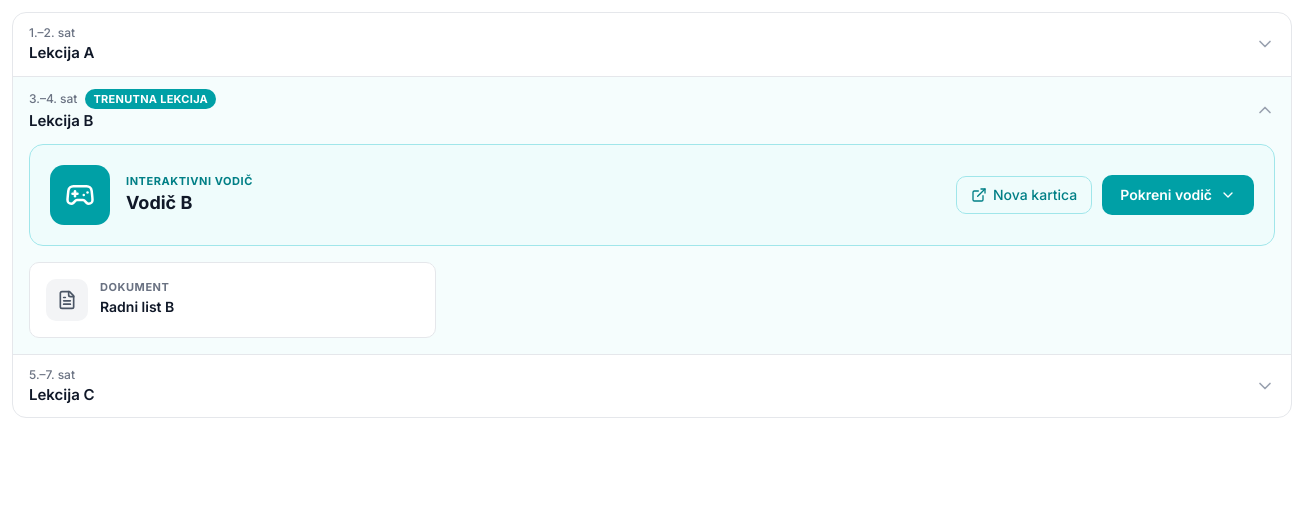
Test case: LessonAccordion — dated module › opens any other lesson on click, and closes it again
Click the button "5.–7. sat Lekcija C".
click(52, 374)  # box [13, 355, 1291, 417]
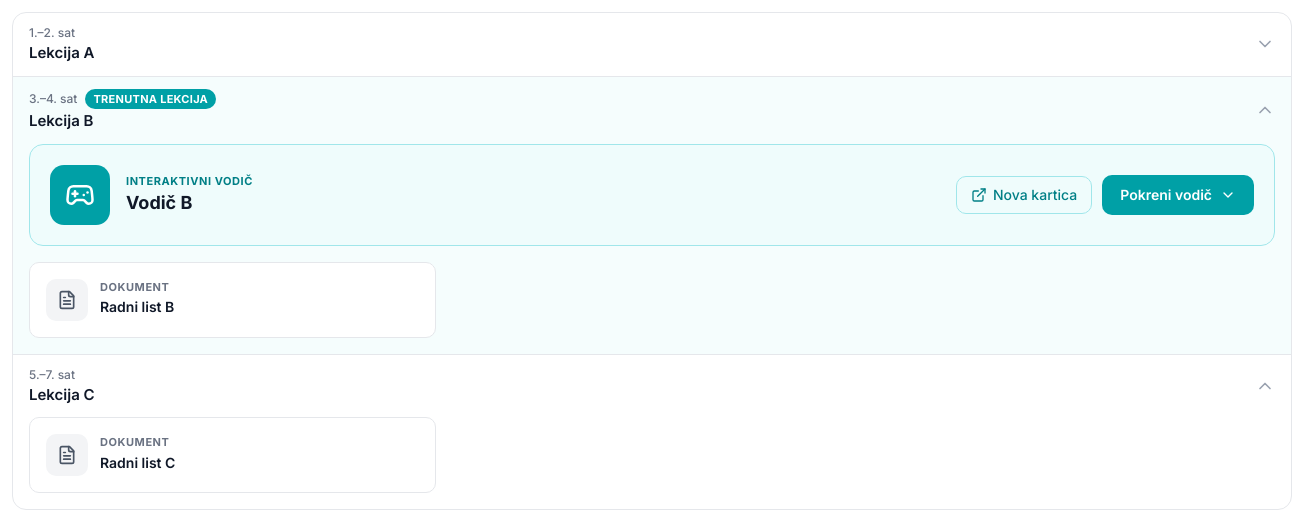
Check: the text "Radni list C" is shown, box [100, 454, 175, 471]
Click the button "5.–7. sat Lekcija C".
click(52, 374)  # box [13, 355, 1291, 417]
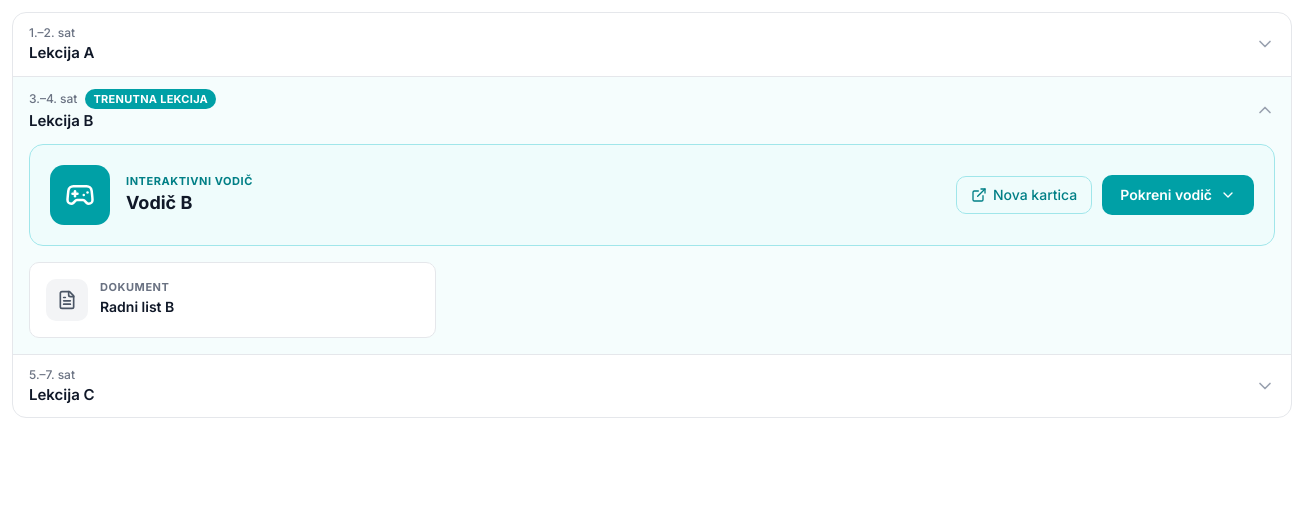
Check: the link "Radni list C" is gone
